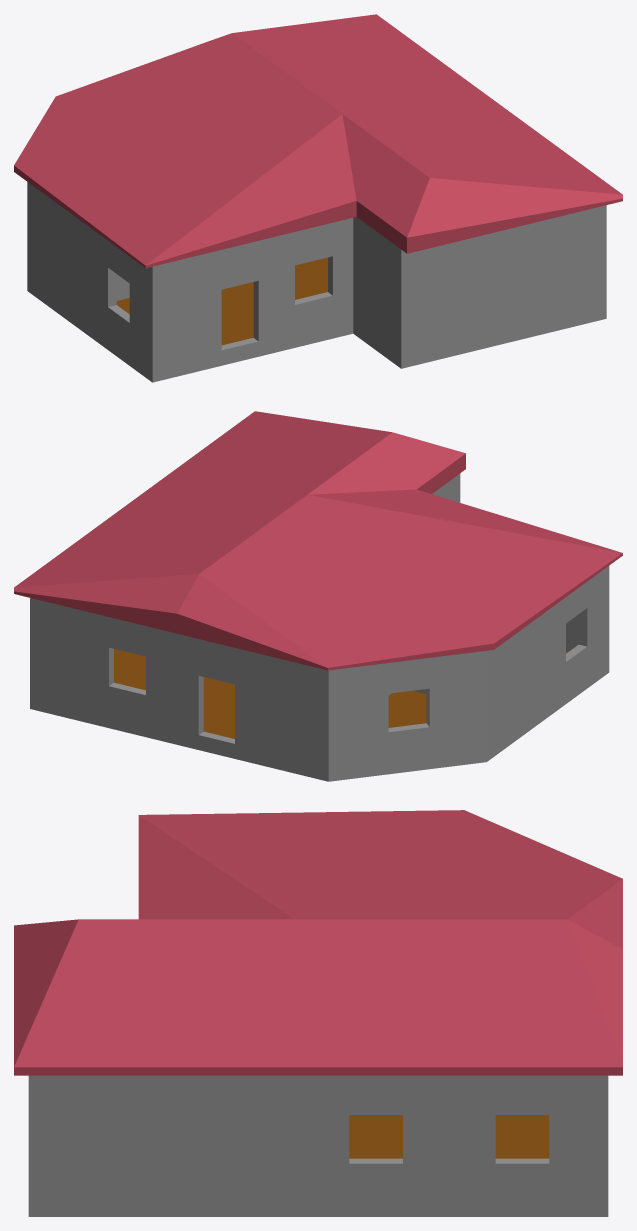
Rendered from house1.fbx.
The picture shows the model from 3 angles, top to bottom: view 1: azimuth 30°, elevation 25°; view 2: azimuth 150°, elevation 25°; view 3: azimuth 270°, elevation 25°; orthographic projection. The views are drawn at different scales.
Visible parts, largest first — view 1: house; view 2: house; view 3: house.
Boxes of the visible parts, left/top/right/bottom form: house: left=14, top=14, right=622, bottom=382; house: left=14, top=411, right=622, bottom=781; house: left=14, top=810, right=622, bottom=1216.
Size of the model in its own units: 1471 by 541 by 1471.
